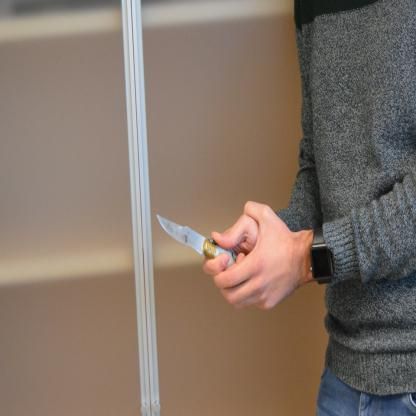knife: (152, 209, 250, 273)
